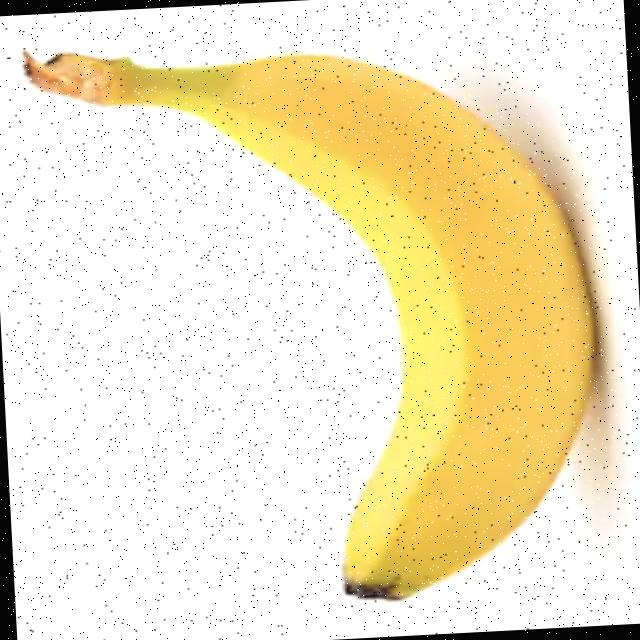Ripe: (78, 34, 613, 622)
